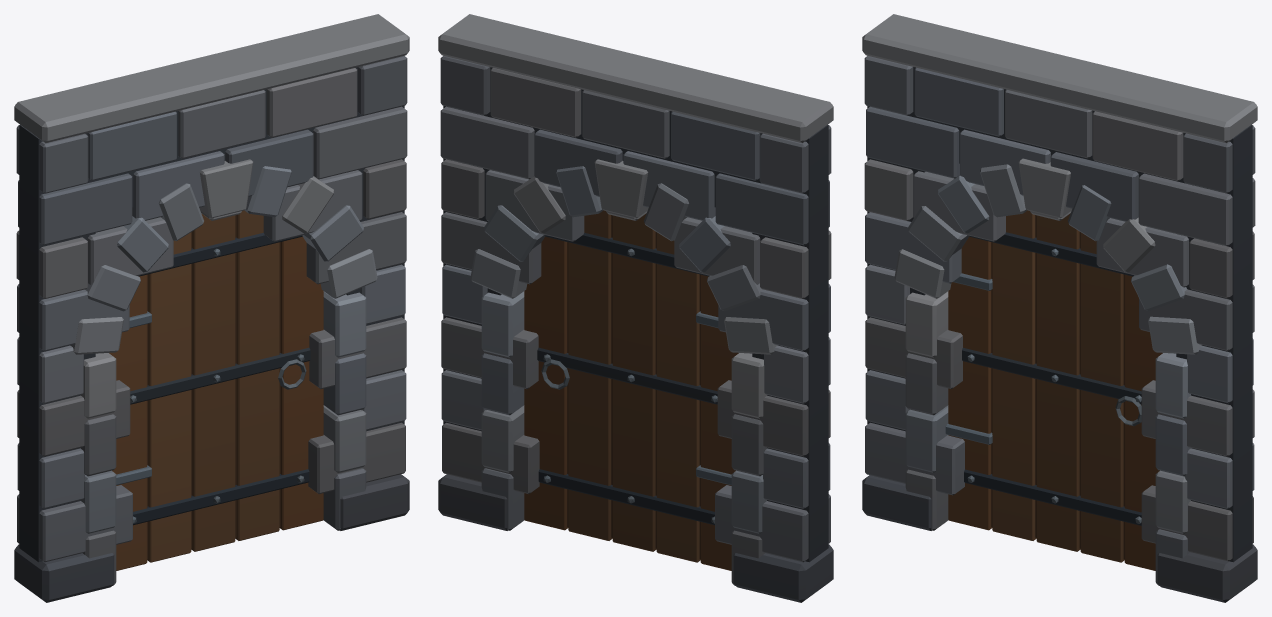
File: piece_stonegate.glb
The picture shows the model from 3 angles, left to right: view 1: azimuth 30°, elevation 25°; view 2: azimuth 150°, elevation 25°; view 3: azimuth 330°, elevation 25°; orthographic projection.
Parts seen in each view (by area): view 1: Base, Leaf; view 2: Base, Leaf; view 3: Base, Leaf.
Boxes of the visible parts, x1,y1,x2,y2 form: Base: (14,14,409,602); Leaf: (109,210,323,570); Base: (438,14,833,602); Leaf: (524,210,738,570); Base: (862,14,1257,602); Leaf: (945,210,1162,570).
Bounding box in the file's own units: 4 × 5 × 0.64.
